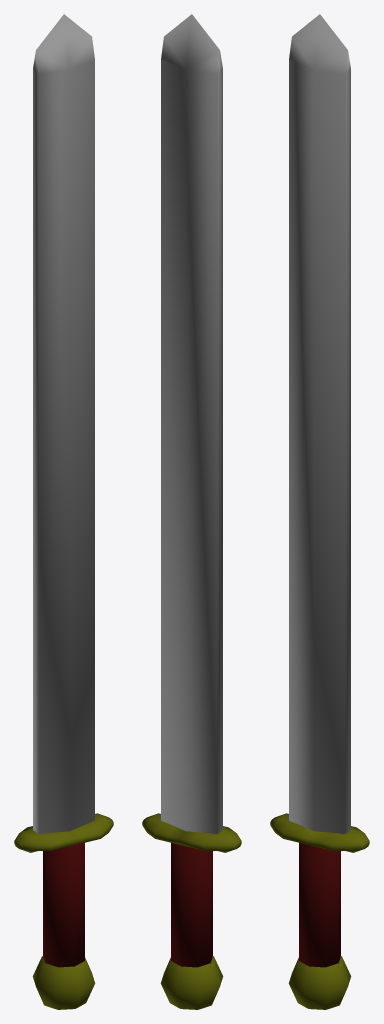
File: sword.obj
The picture shows the model from 3 angles, left to right: view 1: azimuth 30°, elevation 25°; view 2: azimuth 150°, elevation 25°; view 3: azimuth 330°, elevation 25°; orthographic projection.
Visible parts, largest first — view 1: Cube.002, Cylinder, Sphere, Cube; view 2: Cube.002, Cylinder, Sphere, Cube; view 3: Cube.002, Cylinder, Sphere, Cube.
Part boxes in pixels (x1,y1,x2,y2): Cube.002: (33, 14, 94, 834); Cylinder: (43, 843, 84, 967); Sphere: (32, 956, 95, 1009); Cube: (14, 813, 113, 852); Cube.002: (161, 14, 222, 834); Cylinder: (171, 843, 212, 967); Sphere: (160, 956, 223, 1009); Cube: (142, 813, 241, 852); Cube.002: (289, 14, 350, 834); Cylinder: (299, 843, 340, 967); Sphere: (288, 956, 351, 1009); Cube: (270, 813, 369, 852).
Bounding box in the file's own units: 1 × 10.17 × 0.6.
